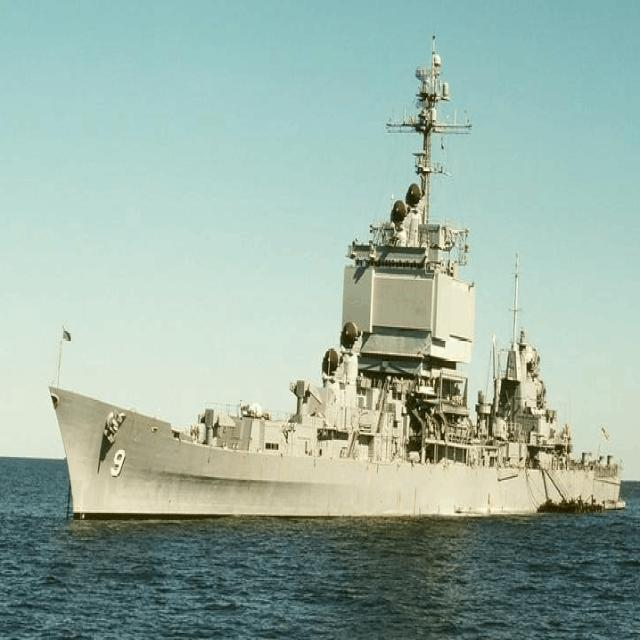navalvessels: (29, 36, 636, 526)
